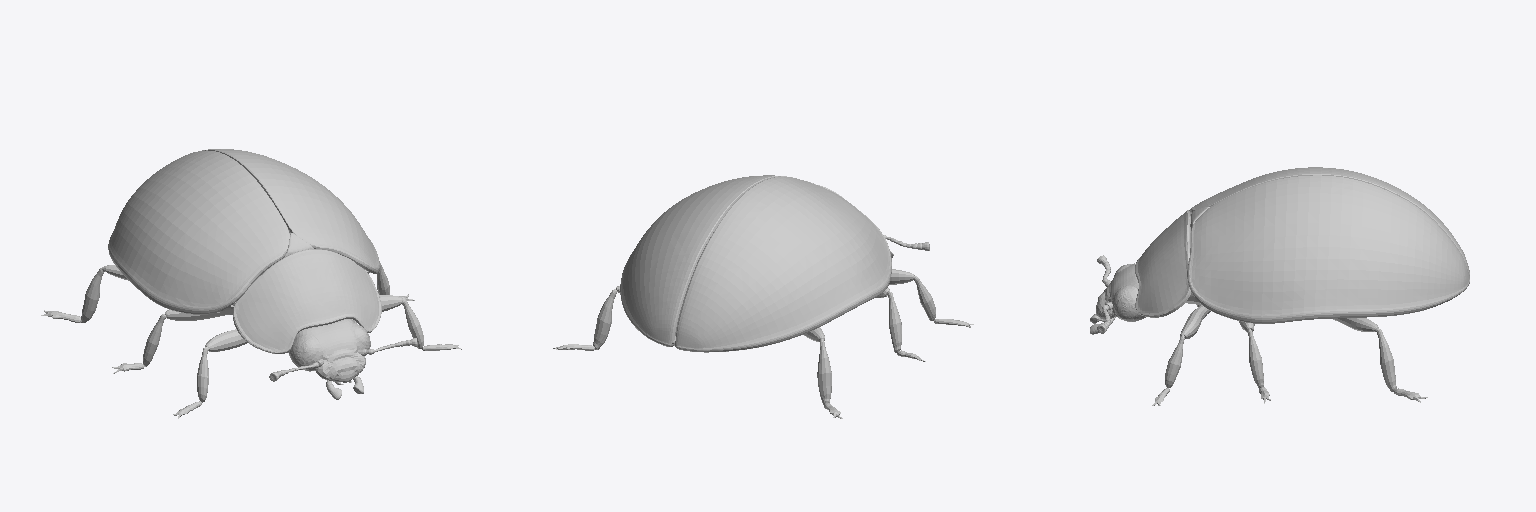
The model's file is ladybug.obj.
3 views of the same model, side by side, from view 1: azimuth 30°, elevation 25°; view 2: azimuth 150°, elevation 25°; view 3: azimuth 270°, elevation 25° (orthographic).
Parts seen in each view (by area): view 1: ladybug; view 2: ladybug; view 3: ladybug.
Part boxes in pixels (x1,y1,x2,y2): ladybug: (41,149,461,418); ladybug: (553,175,973,418); ladybug: (1090,167,1469,405).
Size of the model in its own units: 6.41 by 3.29 by 6.99.